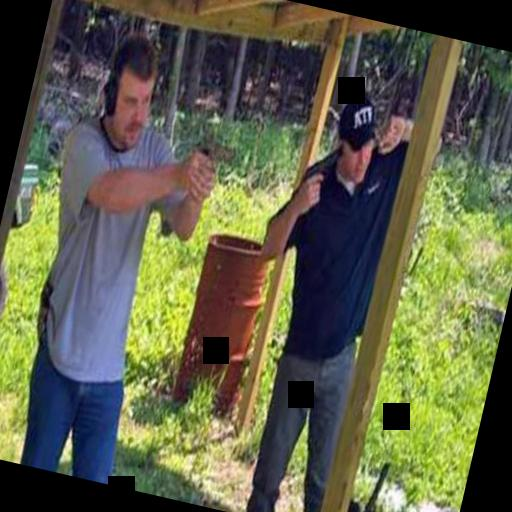Handgun: (179, 114, 249, 204), (293, 132, 344, 206)
